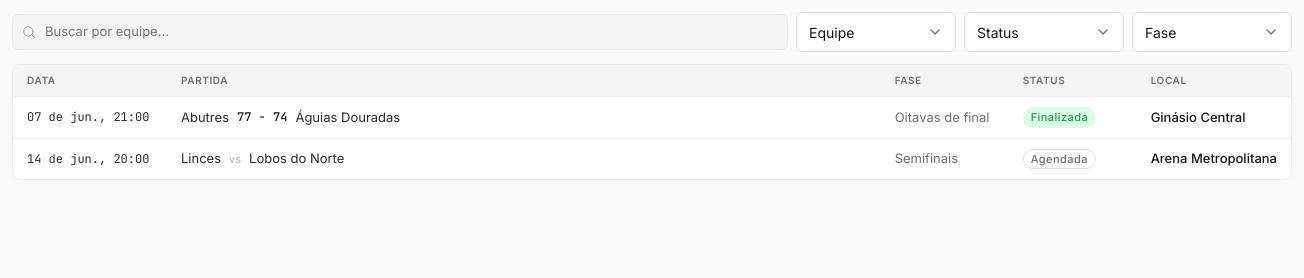
Scenario: MatchesTab › points at the filters when they are what hid every match
Expected: the link labelled "Abutres 77 - 74 Águias Douradas" is shown, [181,108,400,125]
Type "zzz" into the search field named "Buscar partida por equipe" at (400, 32), box [12,14,788,50]
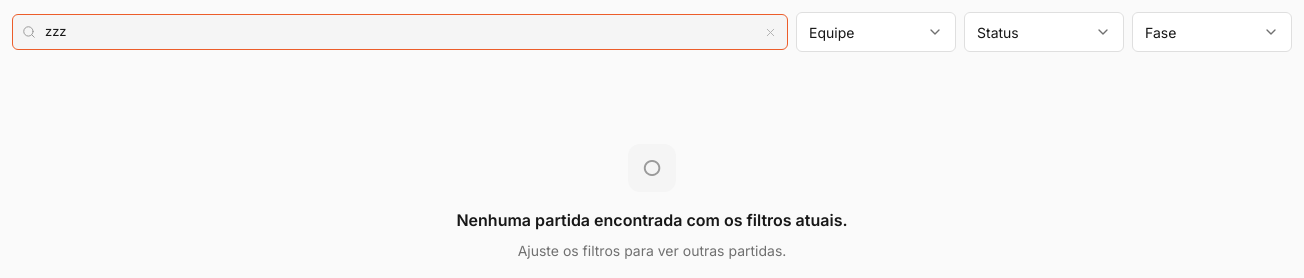
Expected: the text "Nenhuma partida encontrada com os filtros atuais." is shown, [456,208,848,232]
Expected: the text "Ajuste os filtros para ver outras partidas." is shown, [518,240,786,261]
